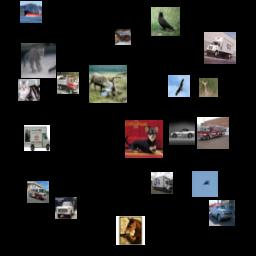airplane: (192, 171, 218, 197)
automobile: (169, 119, 195, 145), (209, 200, 235, 226), (55, 197, 77, 219)
bird: (151, 7, 180, 36), (168, 75, 190, 97)
cat: (21, 43, 56, 78), (18, 79, 40, 101), (115, 29, 131, 45)
deer: (89, 65, 127, 103), (199, 78, 218, 97)
dog: (125, 120, 163, 158)
ship: (20, 1, 42, 23)
truck: (204, 32, 236, 64), (197, 117, 229, 149), (24, 125, 50, 151), (57, 72, 79, 94), (151, 172, 173, 194), (27, 181, 49, 203)
